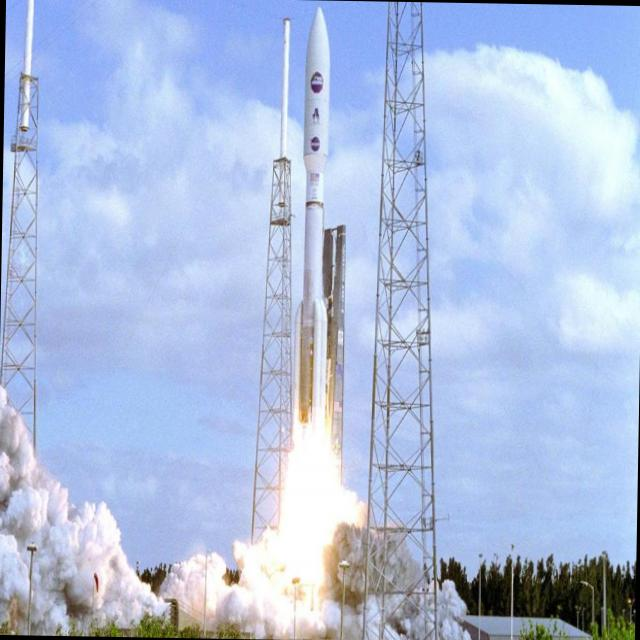rocket: (294, 10, 347, 458)
